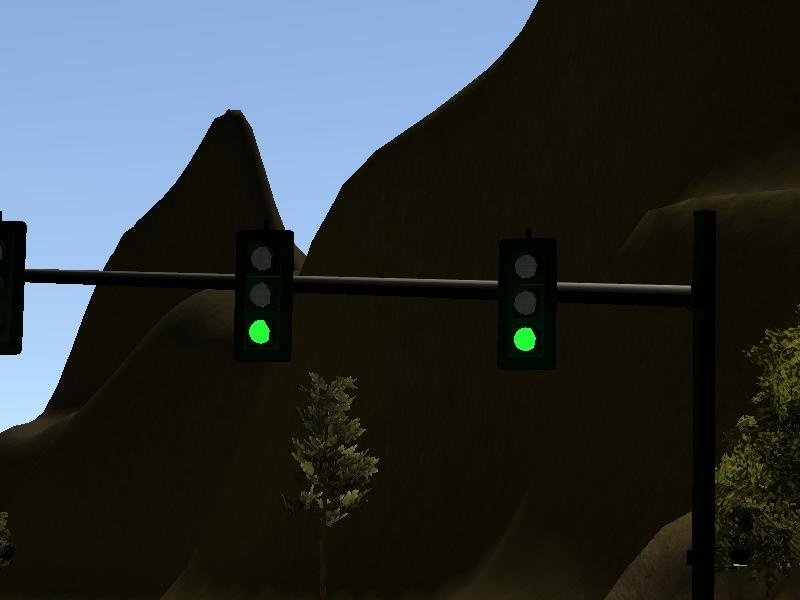GREEN: (497, 242, 556, 374), (233, 230, 292, 362)
